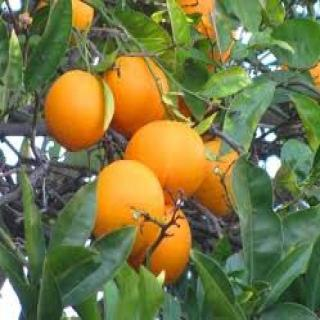orange: (74, 141, 158, 260), (115, 110, 209, 202), (44, 64, 110, 158)
